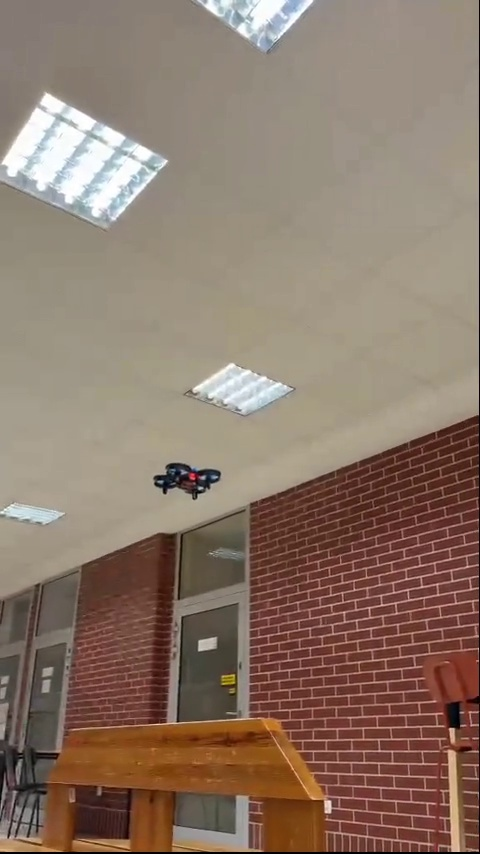drone: (150, 461, 222, 504)
